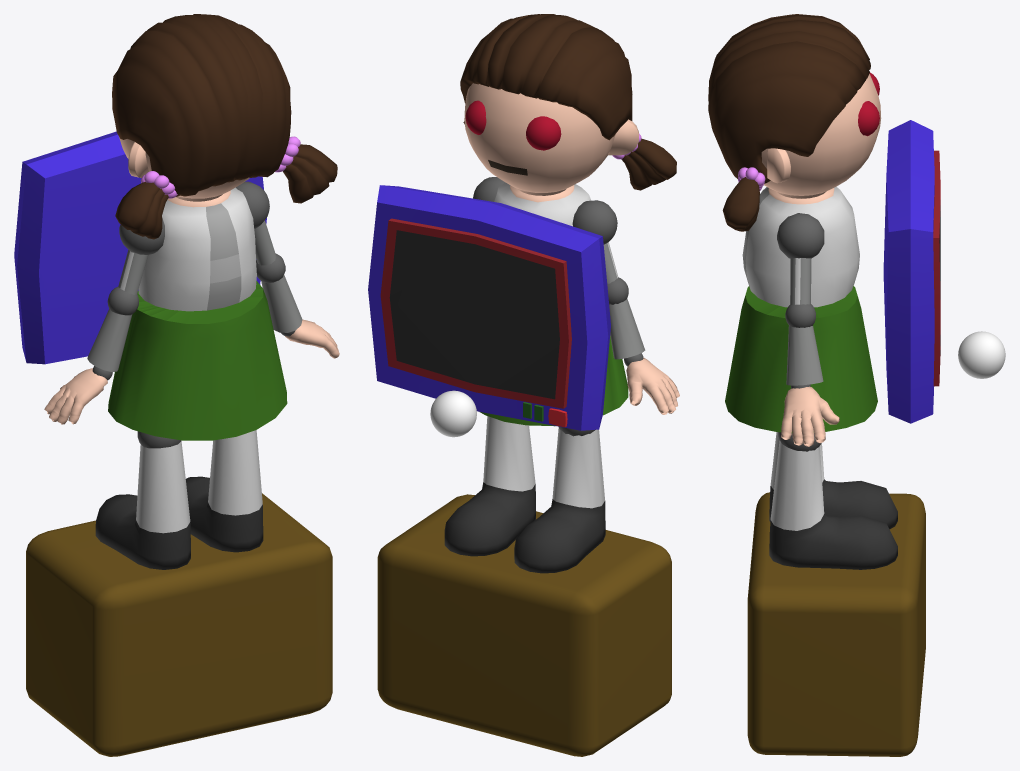
File: Billboard_SqiudGames.fbx
3 views of the same model, side by side, from view 1: azimuth 30°, elevation 25°; view 2: azimuth 150°, elevation 25°; view 3: azimuth 270°, elevation 25° (orthographic). The views are drawn at different scales.
Parts seen in each view (by area): view 1: Base, Robot-New-Body, Robot-head.001, Tab_model; view 2: Base, Tab_model, Robot-head.001, Robot-New-Body, Sphere; view 3: Robot-New-Body, Base, Robot-head.001, Tab_model, Sphere.
Boxes of the visible parts, x1,y1,x2,y2 form: Base: (26,493,332,756); Robot-New-Body: (44,181,339,569); Robot-head.001: (112,14,337,239); Tab_model: (14,131,266,364); Base: (377,494,671,756); Tab_model: (368,185,610,430); Robot-head.001: (460,14,676,195); Robot-New-Body: (444,177,679,573); Sphere: (430,390,476,437); Robot-New-Body: (725,186,897,569); Base: (747,492,925,756); Robot-head.001: (708,14,881,231); Tab_model: (883,120,940,423); Sphere: (958,331,1005,378).
Size of the model in its own units: 6.12 by 14.25 by 5.61.
5 materials, 2 textured.
